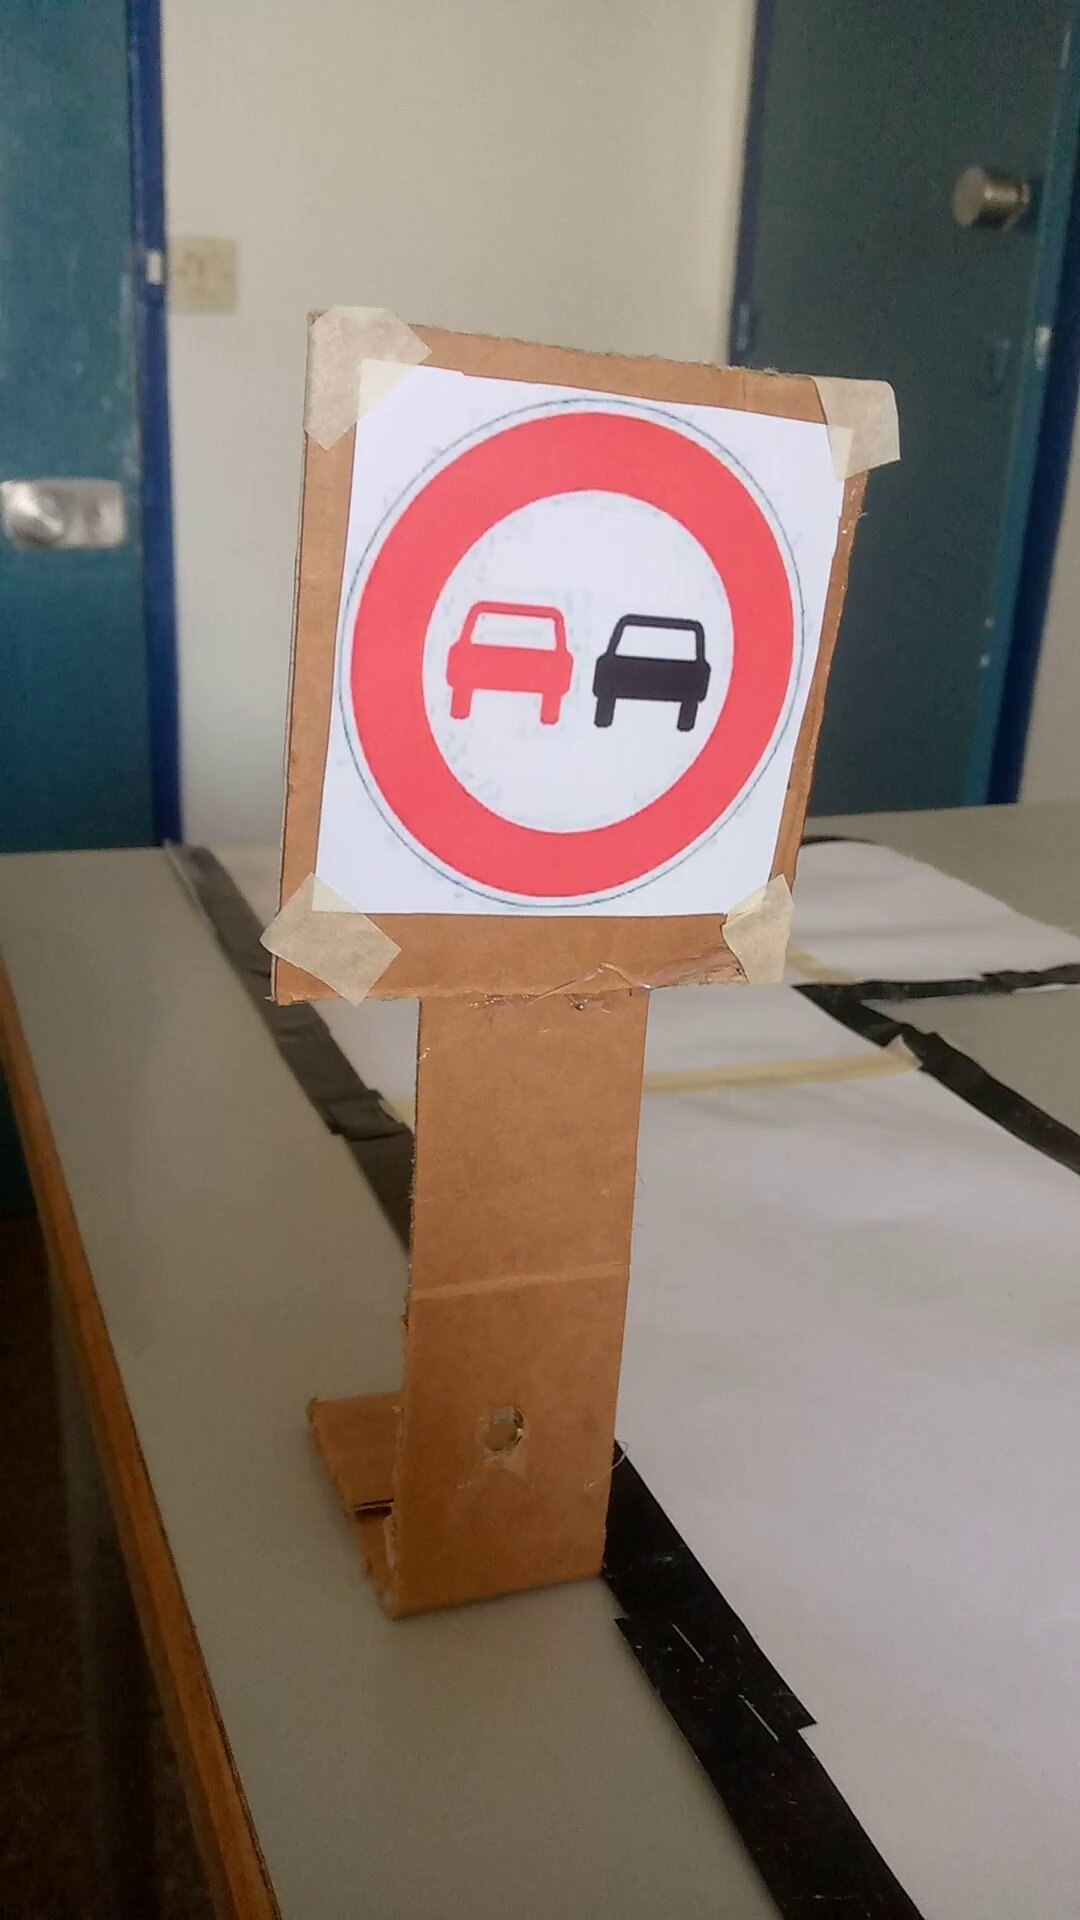panel100: (361, 353, 814, 945)
